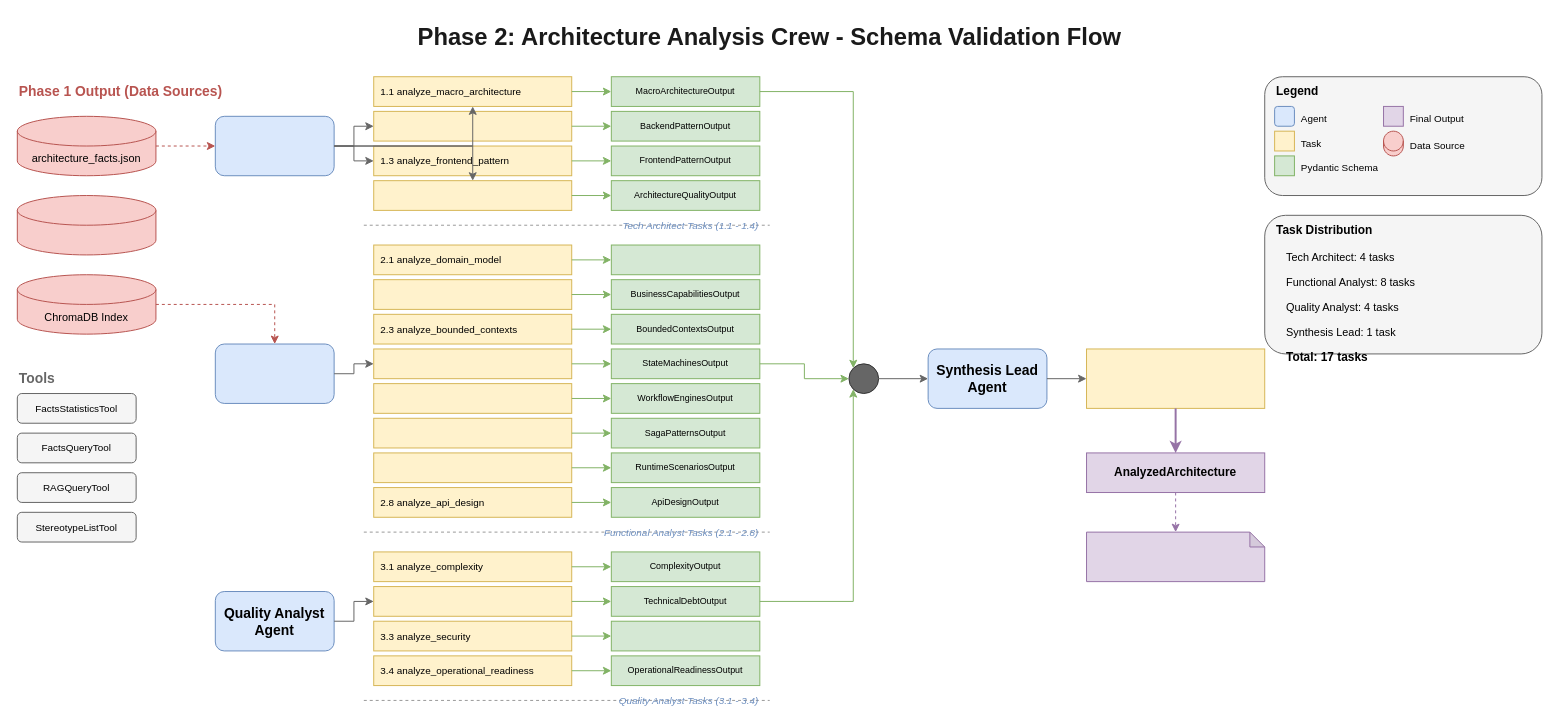
This 1559x727 diagram has some shape labels left out. The shapes that lost their labels are listed below. From the top down, each one's centre as x and y in pixels, then its label:
the point at 274,145: Tech Architect Agent
the point at 472,125: 1.2 analyze_backend_pattern
the point at 472,195: 1.4 analyze_architecture_quality
the point at 86,225: evidence_map.json
the point at 685,259: DomainModelOutput
the point at 472,294: 2.2 analyze_business_capabilities
the point at 274,373: Functional Analyst Agent
the point at 472,363: 2.4 analyze_state_machines
the point at 1175,378: 4.0 synthesize_architecture
the point at 472,398: 2.5 analyze_workflow_engines
the point at 472,432: 2.6 analyze_saga_patterns
the point at 472,467: 2.7 analyze_runtime_scenarios
the point at 1175,556: analyzed_architecture.json
the point at 472,601: 3.2 analyze_technical_debt
the point at 685,635: SecurityOutput
